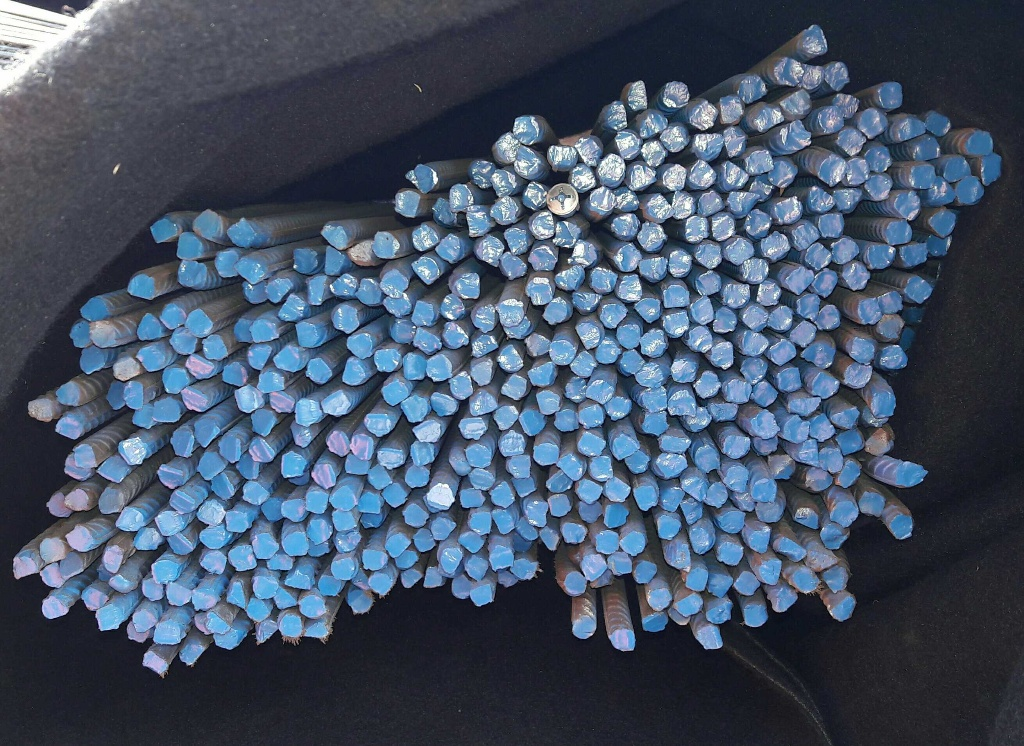dipstick: (659, 121, 689, 152), (817, 155, 847, 185), (476, 236, 504, 268), (768, 158, 798, 187), (859, 109, 889, 138), (492, 132, 519, 164), (597, 155, 626, 184), (760, 232, 789, 261), (782, 89, 811, 118), (227, 218, 255, 248), (408, 165, 438, 193), (626, 162, 657, 189), (637, 111, 668, 138), (198, 452, 227, 480), (513, 116, 542, 144), (489, 168, 518, 196), (774, 57, 803, 85), (642, 194, 672, 221), (693, 133, 724, 159), (412, 257, 440, 285), (689, 101, 717, 129), (191, 210, 220, 237), (435, 233, 462, 262), (864, 144, 893, 171), (234, 385, 264, 411), (412, 327, 442, 353), (616, 130, 642, 160), (737, 77, 768, 102), (801, 24, 826, 55), (773, 537, 805, 561), (332, 305, 359, 333), (490, 197, 518, 224), (497, 299, 525, 326), (638, 222, 665, 250), (782, 121, 810, 148), (956, 176, 984, 203), (186, 308, 212, 337), (373, 230, 399, 259), (529, 210, 555, 239), (556, 265, 585, 291), (577, 136, 603, 165), (821, 524, 850, 550), (896, 461, 926, 486), (128, 273, 155, 300), (470, 330, 497, 357), (905, 274, 932, 301), (838, 127, 865, 154), (177, 259, 203, 287), (119, 438, 147, 464), (64, 454, 92, 480), (501, 252, 527, 280), (690, 526, 716, 554), (668, 390, 696, 416), (774, 196, 802, 222), (865, 172, 891, 200), (235, 259, 264, 284), (186, 353, 215, 378), (155, 511, 184, 536), (321, 391, 350, 416), (469, 357, 494, 386), (660, 312, 689, 337), (725, 239, 754, 264), (656, 453, 686, 477), (638, 257, 668, 281), (825, 61, 849, 91), (467, 206, 490, 237), (753, 107, 784, 130), (79, 347, 105, 374), (427, 484, 453, 511), (468, 160, 494, 187), (505, 227, 531, 254), (526, 278, 553, 304), (500, 374, 527, 400), (642, 408, 669, 434), (695, 371, 721, 398), (721, 162, 748, 188), (865, 428, 891, 455), (813, 372, 839, 399), (809, 185, 835, 212), (229, 545, 257, 570), (364, 412, 392, 437), (441, 322, 469, 347), (528, 246, 556, 271), (689, 162, 717, 187), (830, 501, 858, 526), (836, 429, 864, 454), (843, 363, 871, 388), (844, 262, 869, 290), (866, 245, 894, 270), (97, 457, 126, 481), (321, 245, 345, 274), (603, 101, 627, 130), (719, 96, 743, 125), (723, 127, 747, 156), (805, 343, 834, 367), (879, 345, 908, 369), (80, 297, 110, 320), (281, 499, 311, 522), (637, 364, 667, 387), (90, 321, 116, 347), (170, 327, 196, 353), (162, 367, 188, 393), (279, 294, 305, 320), (401, 396, 427, 422), (559, 454, 585, 480), (570, 351, 596, 377), (641, 385, 667, 411), (695, 445, 721, 471), (591, 266, 617, 292), (571, 240, 597, 266), (613, 214, 639, 240), (641, 139, 667, 165), (805, 243, 831, 269), (793, 223, 819, 249), (832, 239, 858, 265), (945, 156, 971, 182), (176, 233, 201, 260), (197, 500, 224, 525), (306, 357, 331, 384), (395, 190, 420, 217), (346, 333, 373, 358), (390, 318, 417, 343), (455, 272, 480, 299), (472, 305, 497, 332), (449, 184, 474, 211), (549, 340, 576, 365), (752, 411, 779, 436), (822, 565, 847, 592), (817, 106, 844, 131), (153, 397, 181, 421), (60, 552, 84, 580), (295, 398, 319, 426), (433, 197, 457, 225), (499, 344, 523, 372), (982, 152, 1003, 184), (729, 192, 758, 215), (912, 135, 941, 158), (528, 363, 558, 385), (548, 145, 578, 167), (160, 304, 186, 329), (139, 346, 165, 371), (203, 334, 228, 360), (253, 533, 278, 559), (307, 518, 332, 544), (274, 345, 300, 370), (322, 223, 347, 249), (385, 532, 411, 557), (427, 355, 452, 381), (490, 481, 515, 507), (519, 410, 545, 435), (601, 304, 627, 329), (663, 81, 689, 106), (751, 381, 777, 406), (811, 414, 836, 440), (788, 267, 813, 293), (909, 164, 935, 189), (894, 192, 919, 218), (113, 356, 140, 380), (242, 480, 269, 504), (195, 420, 219, 447), (330, 273, 357, 297), (381, 270, 408, 294), (350, 433, 374, 460), (383, 481, 407, 508), (666, 544, 690, 571), (613, 433, 637, 460), (684, 407, 711, 431), (616, 244, 640, 271), (612, 187, 639, 211), (746, 150, 773, 174), (828, 596, 855, 620), (836, 460, 860, 487), (876, 314, 903, 338), (814, 271, 838, 298), (154, 621, 182, 644), (250, 319, 278, 342), (431, 392, 459, 415), (577, 432, 605, 455), (172, 427, 194, 456), (626, 80, 647, 110), (99, 488, 124, 513), (67, 526, 92, 551), (293, 248, 318, 273), (382, 380, 407, 405), (536, 390, 561, 415), (554, 222, 579, 247), (571, 165, 596, 190), (696, 243, 721, 268), (743, 258, 768, 283), (860, 492, 885, 517), (835, 188, 860, 213), (929, 211, 954, 236), (150, 219, 176, 243), (136, 313, 160, 339), (167, 531, 193, 555), (283, 531, 309, 555), (330, 486, 356, 510), (236, 453, 260, 479), (411, 301, 435, 327), (619, 531, 645, 555), (676, 592, 702, 616), (576, 322, 600, 348), (724, 466, 748, 492), (725, 379, 751, 403), (741, 329, 767, 353), (785, 416, 809, 442), (870, 393, 896, 417), (791, 320, 815, 346), (850, 338, 874, 364), (746, 210, 770, 236), (373, 349, 400, 372), (524, 182, 547, 209), (583, 554, 606, 581), (603, 479, 630, 502), (723, 434, 750, 457), (712, 212, 735, 239), (806, 468, 833, 491), (901, 243, 928, 266), (216, 250, 238, 278), (604, 397, 632, 419), (711, 341, 733, 369), (306, 276, 327, 305), (896, 118, 925, 139), (55, 381, 80, 405), (166, 581, 191, 605), (252, 575, 277, 599), (158, 464, 183, 488), (312, 464, 336, 489), (358, 279, 382, 304), (385, 293, 410, 317), (440, 294, 464, 319), (413, 225, 437, 250), (494, 405, 519, 429), (697, 625, 722, 649), (707, 599, 732, 623), (719, 541, 744, 565), (657, 515, 681, 540), (633, 484, 657, 509), (682, 476, 707, 500), (641, 331, 665, 356), (635, 298, 660, 322), (591, 186, 616, 210), (770, 454, 795, 478), (819, 447, 843, 472), (816, 305, 840, 330), (819, 213, 844, 237), (801, 64, 825, 89), (42, 595, 68, 618), (82, 587, 108, 610), (134, 527, 160, 550), (247, 344, 270, 370), (296, 322, 319, 348), (242, 280, 268, 303), (326, 430, 349, 456), (465, 444, 491, 467), (524, 333, 550, 356), (734, 572, 760, 595), (576, 480, 602, 503), (680, 499, 703, 525), (544, 297, 567, 323), (619, 274, 642, 300), (698, 192, 724, 215), (685, 215, 708, 241), (770, 341, 796, 364), (833, 94, 859, 117), (879, 82, 902, 108), (966, 131, 992, 154), (55, 416, 82, 438), (413, 420, 440, 442), (361, 549, 388, 571), (404, 353, 426, 380), (459, 418, 486, 440), (510, 475, 537, 497), (586, 380, 613, 402), (572, 291, 599, 313), (691, 297, 713, 324), (103, 545, 124, 573), (124, 381, 144, 410), (132, 404, 156, 428), (96, 606, 120, 630), (281, 452, 305, 476), (404, 504, 428, 528), (499, 432, 523, 456), (589, 456, 613, 480), (757, 281, 781, 305), (27, 399, 52, 422), (182, 388, 207, 411), (40, 538, 65, 561), (14, 553, 37, 578), (300, 595, 325, 618), (201, 551, 226, 574), (269, 390, 294, 413), (343, 360, 366, 385), (525, 501, 548, 526), (610, 628, 635, 651), (660, 487, 683, 512), (563, 377, 586, 402), (671, 360, 696, 383), (668, 251, 691, 276), (713, 308, 736, 333), (741, 357, 766, 380), (771, 589, 796, 612), (744, 305, 767, 330), (768, 306, 791, 331), (887, 221, 912, 244), (925, 111, 950, 134), (116, 508, 142, 530), (152, 560, 178, 582), (200, 527, 226, 549), (170, 489, 196, 511), (212, 473, 234, 499), (219, 436, 241, 462), (252, 410, 274, 436), (450, 372, 472, 398), (459, 531, 485, 553), (546, 470, 572, 492), (553, 409, 579, 431), (595, 337, 617, 363), (707, 403, 737, 422), (335, 531, 362, 552), (258, 372, 285, 393), (470, 391, 497, 412), (576, 501, 603, 522), (673, 191, 694, 218), (724, 284, 751, 305), (792, 571, 819, 592), (106, 381, 126, 409), (280, 614, 303, 638), (332, 557, 356, 580), (250, 438, 274, 461), (223, 363, 247, 386), (431, 518, 455, 541), (410, 441, 434, 464), (491, 509, 514, 533), (508, 454, 531, 478), (647, 588, 671, 611), (744, 604, 768, 627), (605, 503, 628, 527), (752, 479, 776, 502), (617, 324, 640, 348), (697, 272, 721, 295), (858, 299, 881, 323), (143, 651, 168, 673), (369, 464, 391, 489), (470, 468, 495, 490), (491, 544, 513, 569), (534, 443, 559, 465), (708, 575, 733, 597), (759, 559, 781, 584), (579, 404, 604, 426), (690, 326, 712, 351), (756, 500, 781, 522), (70, 321, 91, 347), (663, 285, 689, 306), (511, 559, 538, 579), (808, 550, 838, 568), (227, 580, 246, 608), (74, 444, 97, 467), (247, 598, 270, 621), (261, 498, 284, 521), (306, 491, 329, 514), (267, 279, 290, 302), (468, 511, 491, 534), (465, 556, 488, 579), (596, 530, 619, 553), (621, 350, 644, 373), (778, 368, 801, 391), (41, 563, 63, 587), (413, 528, 435, 552), (405, 465, 429, 487), (625, 451, 649, 473), (705, 482, 727, 506), (846, 159, 868, 183), (789, 397, 820, 414), (49, 492, 70, 517), (205, 612, 230, 633), (719, 511, 744, 532), (664, 164, 685, 189), (795, 507, 820, 528), (377, 448, 404, 467), (141, 578, 164, 600), (274, 587, 297, 609), (470, 583, 492, 606), (634, 561, 657, 583), (547, 495, 570, 517), (891, 515, 913, 538), (797, 294, 819, 317), (64, 489, 88, 510), (214, 628, 238, 649), (304, 617, 328, 638), (332, 510, 356, 531), (357, 492, 381, 513), (564, 572, 585, 596), (608, 553, 632, 574), (686, 567, 707, 591), (345, 454, 370, 474), (441, 548, 461, 573), (561, 523, 586, 543), (800, 439, 819, 465), (285, 571, 312, 589), (661, 434, 688, 452), (133, 609, 155, 631), (349, 590, 371, 612), (256, 620, 277, 643), (225, 511, 248, 532), (573, 617, 596, 638), (879, 292, 902, 313), (643, 612, 667, 632), (460, 488, 485, 507), (127, 621, 149, 642), (369, 573, 392, 593), (395, 549, 418, 569), (749, 530, 769, 553), (832, 409, 859, 426), (191, 591, 216, 609), (109, 574, 135, 591), (424, 566, 445, 587), (318, 575, 340, 595), (180, 644, 203, 663), (235, 319, 254, 342), (452, 575, 471, 598), (266, 554, 293, 570), (541, 527, 560, 549), (754, 437, 778, 453), (402, 568, 422, 587)
